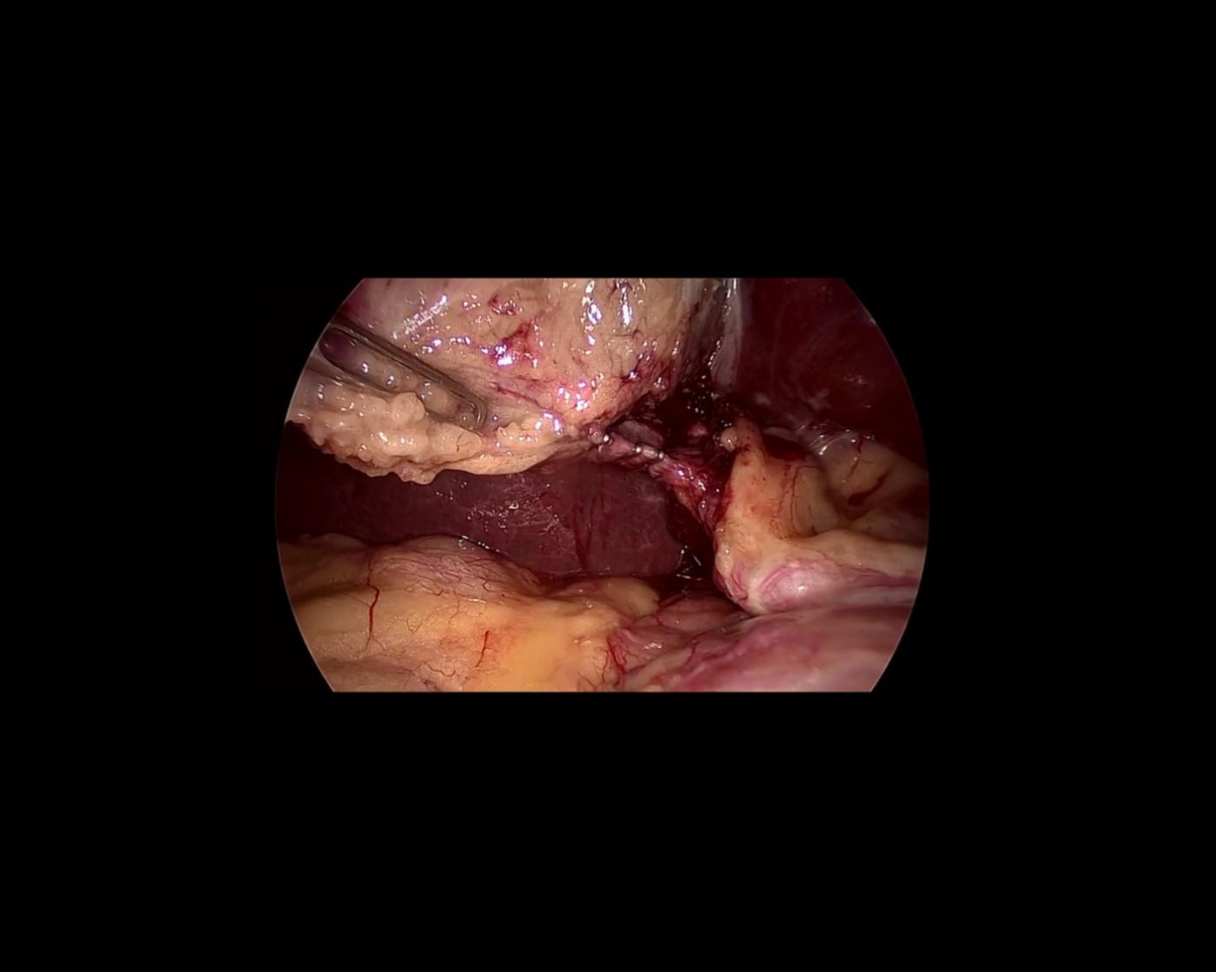Forceps: (303, 309, 507, 461)
Gallbladder: (291, 278, 723, 479)
Liver: (273, 431, 717, 592), (691, 250, 973, 473)
